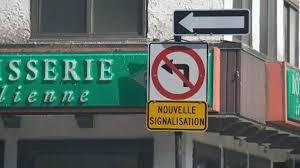no_left_turn: (151, 45, 204, 99)
